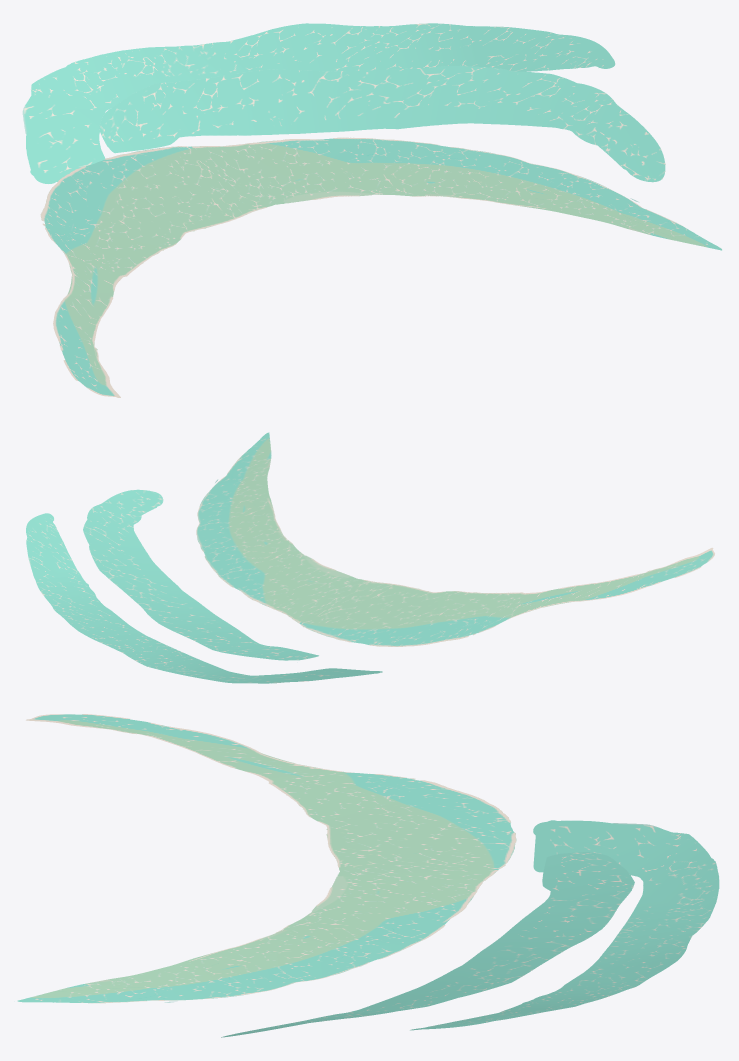
The model's file is Mesh_Home_BH_Sea.fbx.
The picture shows the model from 3 angles, top to bottom: view 1: azimuth 30°, elevation 25°; view 2: azimuth 150°, elevation 25°; view 3: azimuth 270°, elevation 25°; orthographic projection. The views are drawn at different scales.
Parts seen in each view (by area): view 1: Mesh_Home_BH_Sea; view 2: Mesh_Home_BH_Sea; view 3: Mesh_Home_BH_Sea.
Boxes of the visible parts, <box> form: Mesh_Home_BH_Sea: <box>22,23,721,397</box>; Mesh_Home_BH_Sea: <box>26,432,714,683</box>; Mesh_Home_BH_Sea: <box>17,714,719,1037</box>.
Size of the model in its own units: 2589 by 232 by 2203.
Materials: 1 (1 with a texture image).
